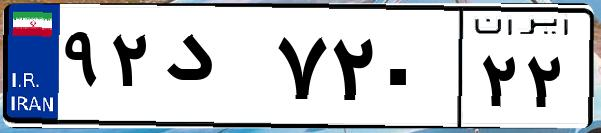0: (385, 28, 445, 110)
2: (330, 28, 385, 110), (475, 38, 525, 113), (525, 38, 570, 115), (110, 28, 158, 98)
7: (270, 28, 330, 110)
9: (57, 26, 110, 100)
د: (158, 20, 270, 120)
